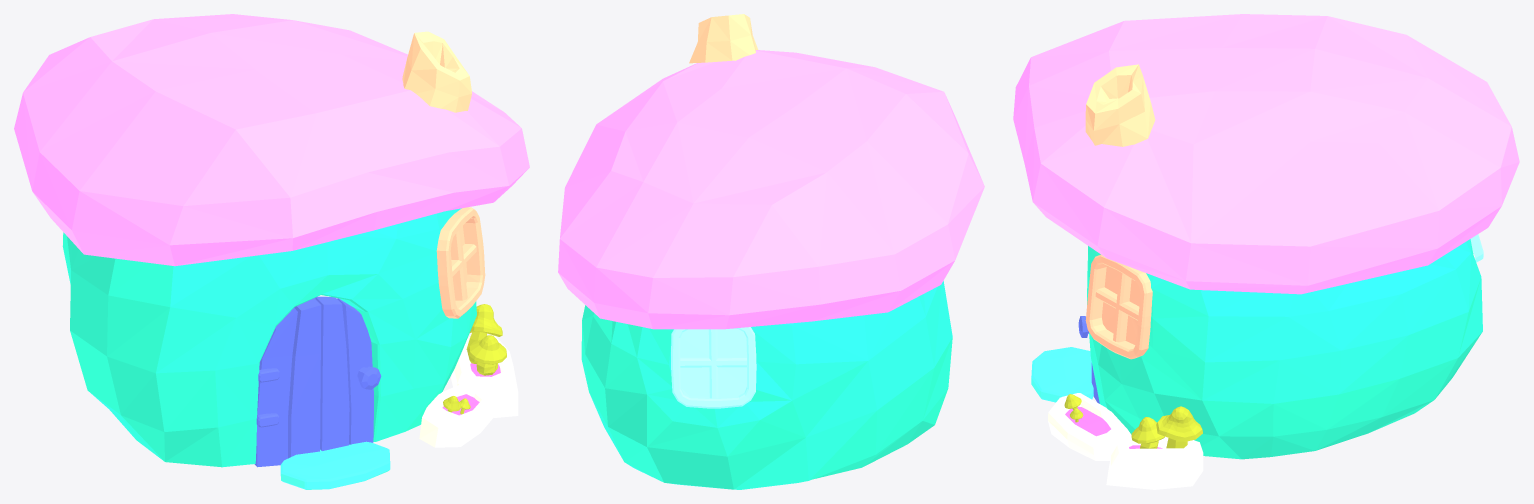
The picture shows the model from 3 angles, left to right: view 1: azimuth 30°, elevation 25°; view 2: azimuth 150°, elevation 25°; view 3: azimuth 270°, elevation 25°; orthographic projection. The views are drawn at different scales.
Parts seen in each view (by area): view 1: part_8, part_0, part_2, part_3, part_4, part_1, part_9, part_6; view 2: part_8, part_0, part_7, part_1; view 3: part_8, part_0, part_3, part_4, part_1, part_9, part_6, part_5.
Part boxes in pixels (box(x1,y1,x2,y2)): part_8: box(14, 14, 529, 266); part_0: box(62, 208, 476, 467); part_2: box(254, 296, 381, 467); part_3: box(419, 335, 518, 447); part_4: box(436, 207, 485, 318); part_1: box(402, 31, 471, 112); part_9: box(280, 441, 390, 489); part_6: box(443, 304, 506, 414); part_8: box(558, 50, 984, 329); part_0: box(581, 281, 952, 489); part_7: box(671, 327, 756, 408); part_1: box(689, 14, 758, 63); part_8: box(1013, 14, 1519, 294); part_0: box(1087, 239, 1482, 459); part_3: box(1048, 393, 1203, 489); part_4: box(1085, 254, 1152, 359); part_1: box(1085, 64, 1155, 146); part_9: box(1031, 347, 1093, 402); part_6: box(1064, 394, 1202, 448); part_5: box(1065, 406, 1162, 448).
Bounding box in the file's own units: 0.858 × 0.7751 × 0.9377.
